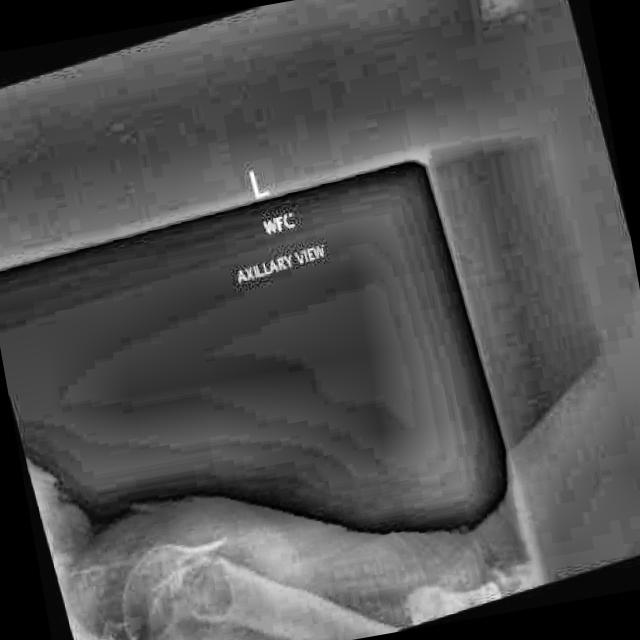shoulder fracture: (178, 518, 252, 589)
